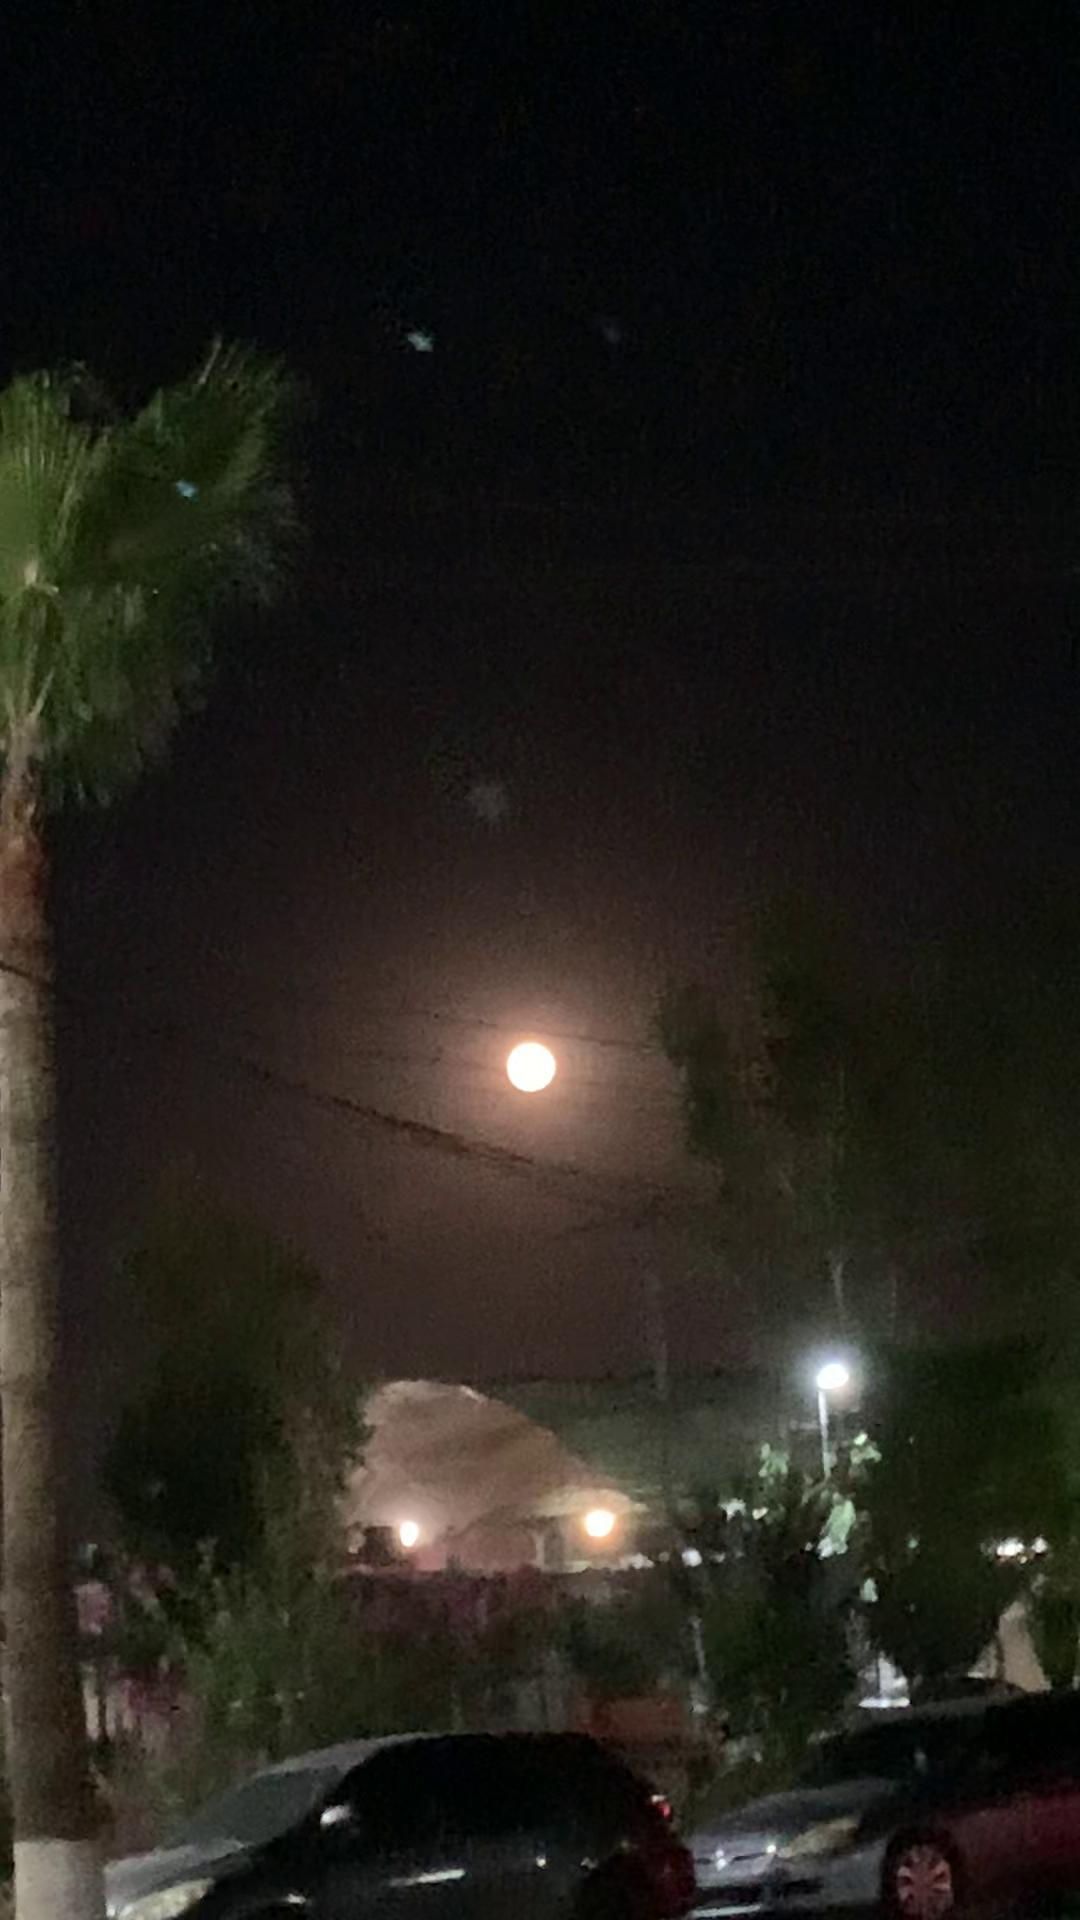moon: (485, 1017, 578, 1089)
